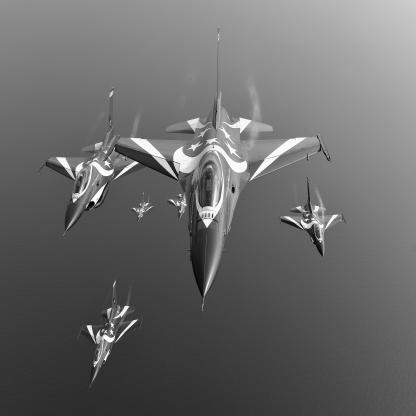F16: (104, 27, 333, 315), (38, 88, 149, 237), (78, 280, 143, 390), (280, 177, 347, 260), (131, 192, 156, 224), (167, 192, 188, 222)
